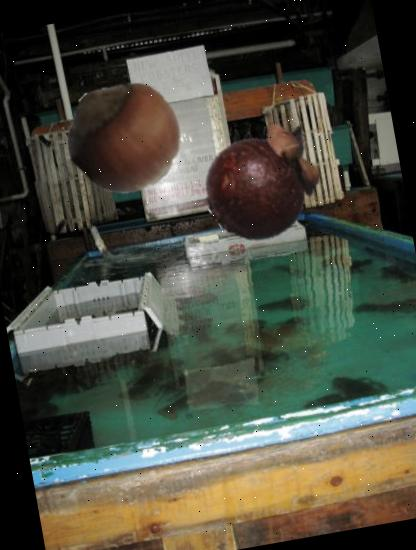Mangostan: (192, 110, 338, 255)
Nut: (57, 68, 192, 202)
